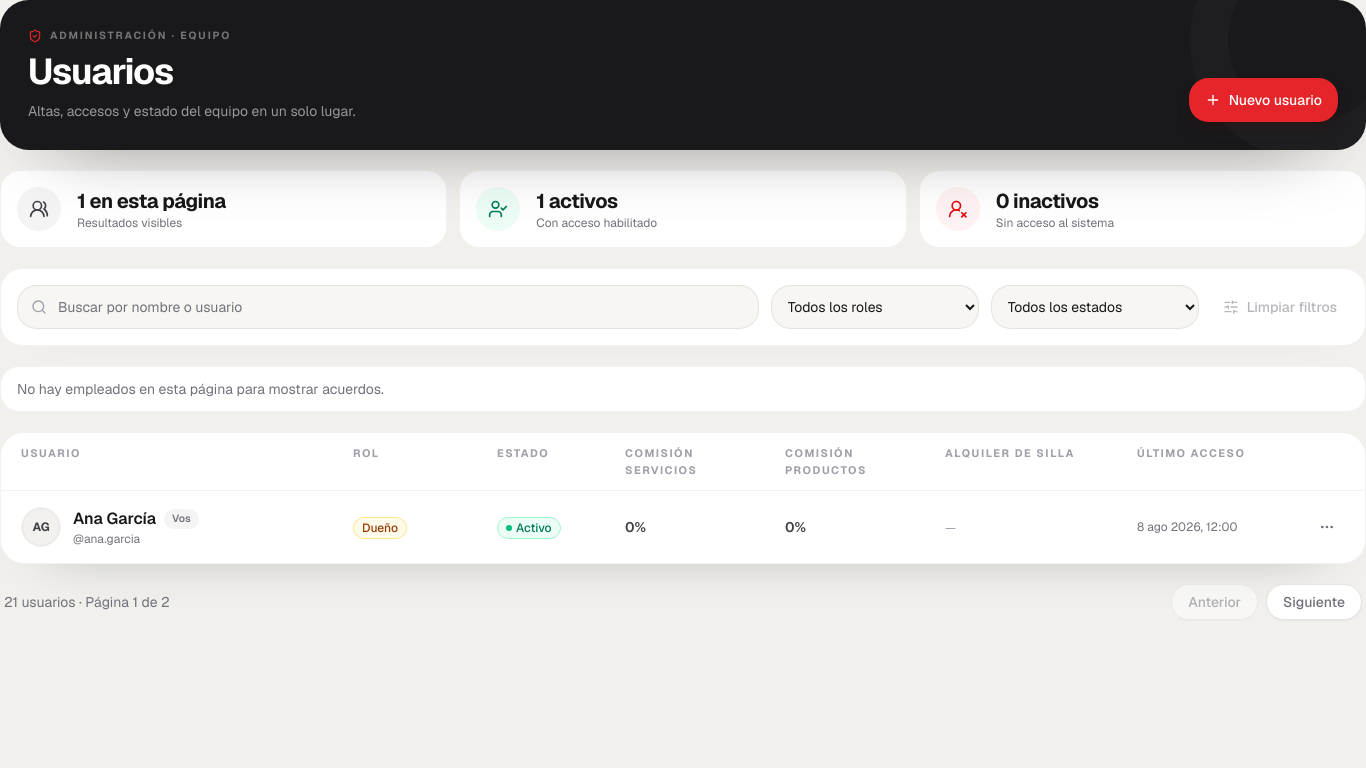
UsersView › returns to the nearest valid page after deleting its final row
Expected: the text "@ana.garcia" is shown, x1=73 y1=531 x2=140 y2=547
Click the button "Siguiente".
click(1314, 602)  # box x1=1266 y1=584 x2=1362 y2=620
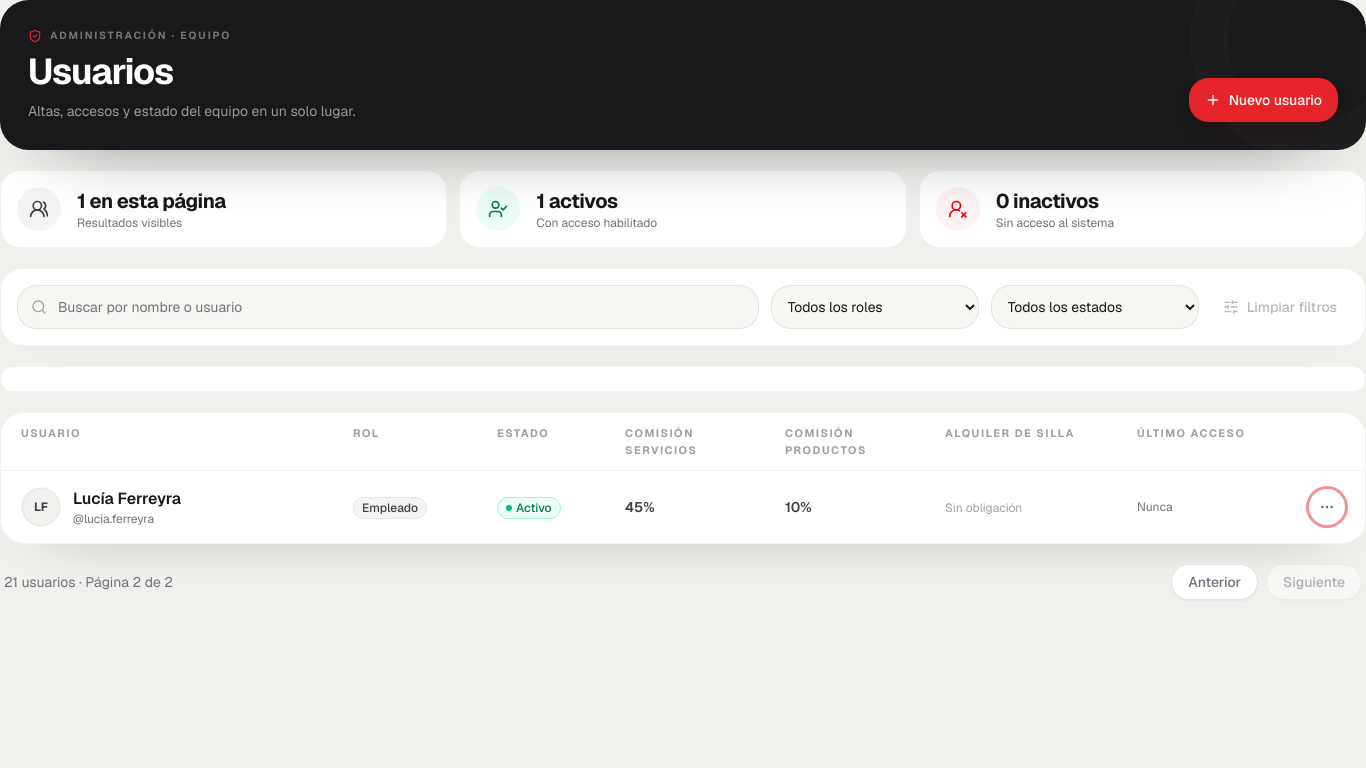
Expected: the text "@lucia.ferreyra" is shown, x1=73 y1=511 x2=154 y2=527
Press Arrowdown
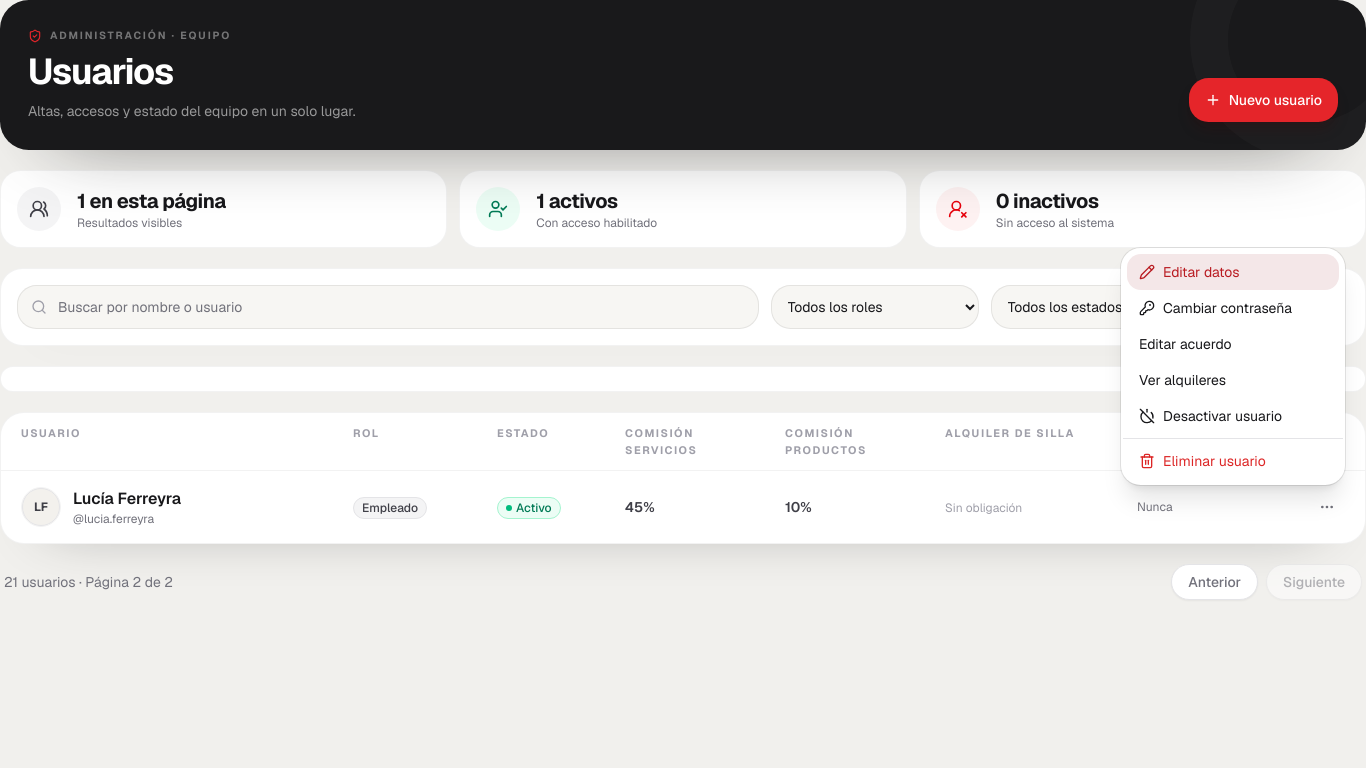
Click the menu item "Eliminar usuario".
click(1202, 461)  # box x1=1139 y1=452 x2=1266 y2=470
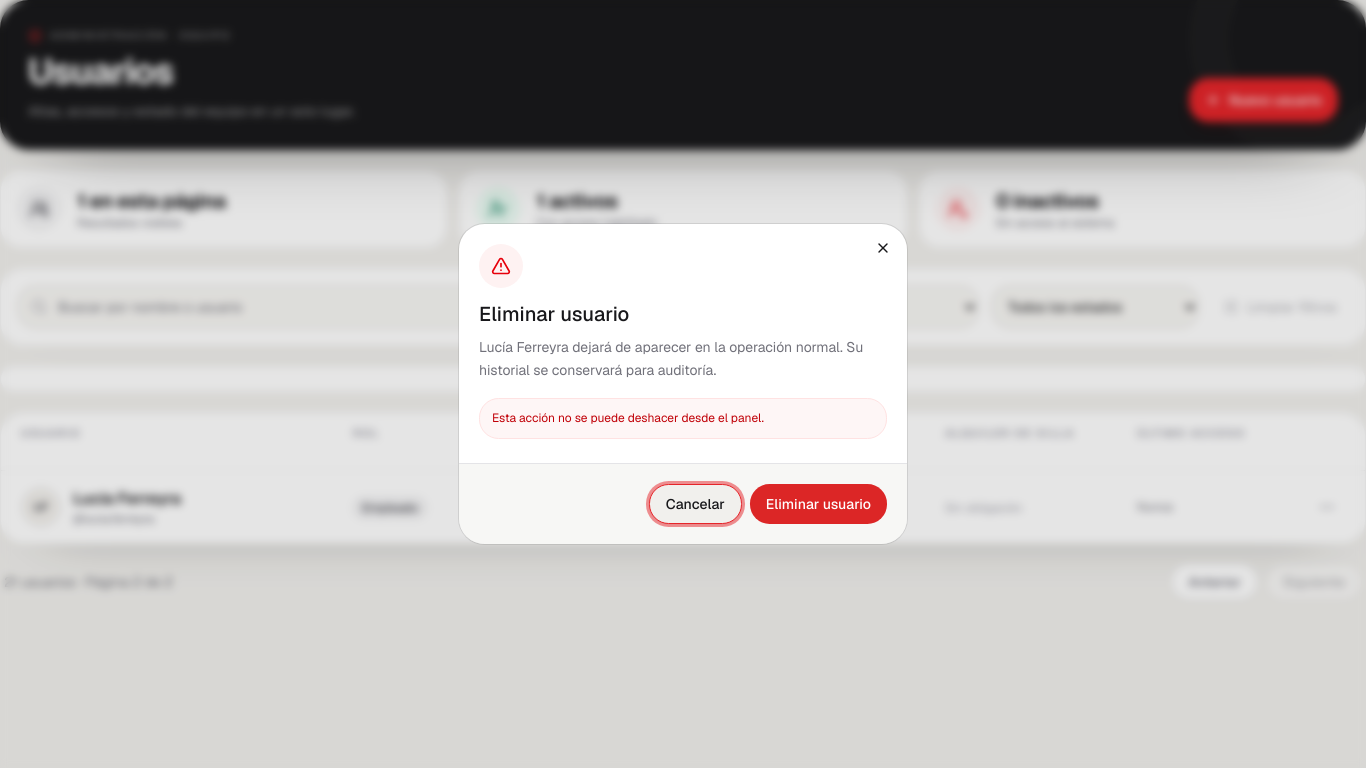
Click the button "Eliminar usuario".
click(818, 504)  # box x1=750 y1=484 x2=887 y2=524
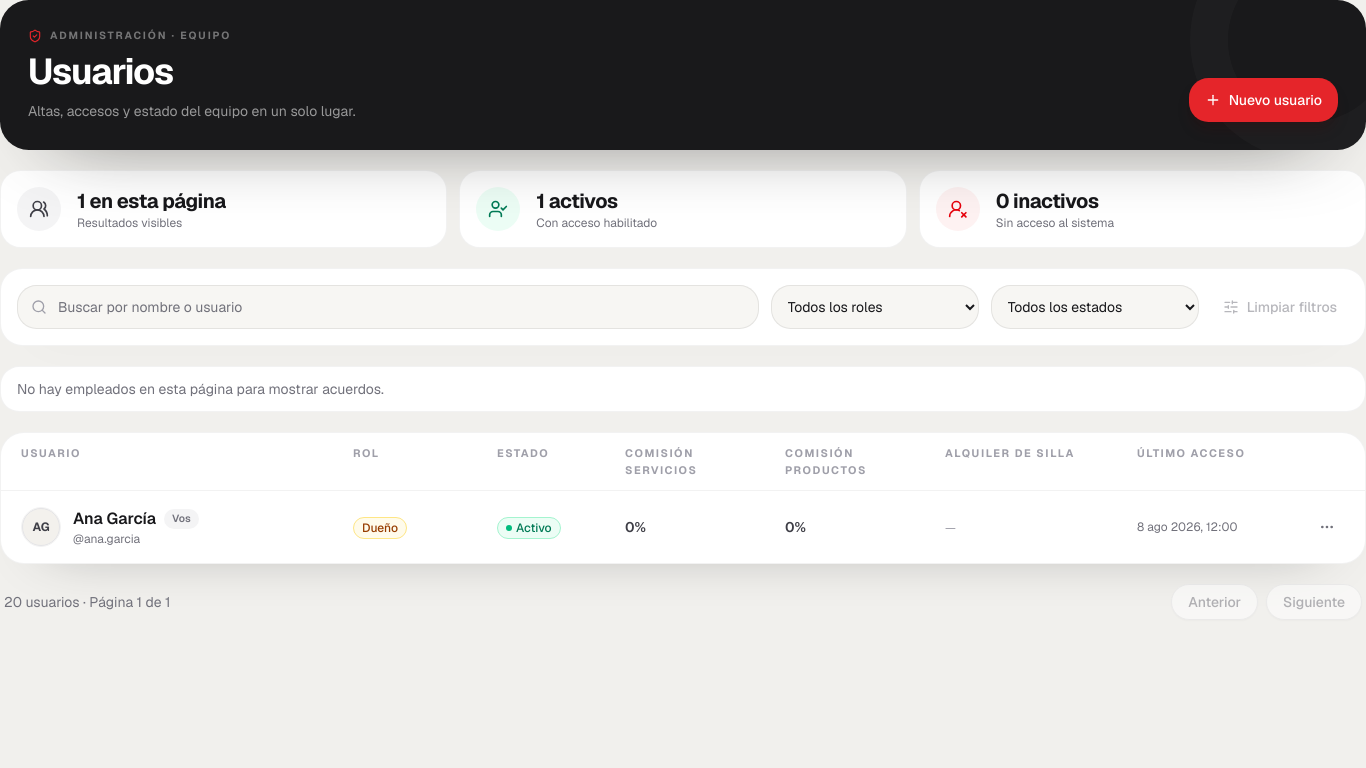
Expected: the text "@ana.garcia" is shown, x1=73 y1=531 x2=140 y2=547
